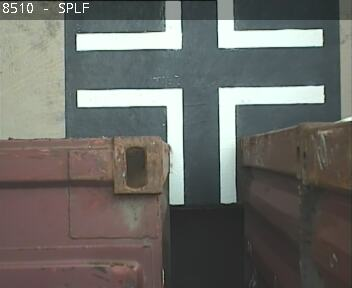groundmarker_1: (77, 84, 324, 203), (76, 1, 321, 49)
